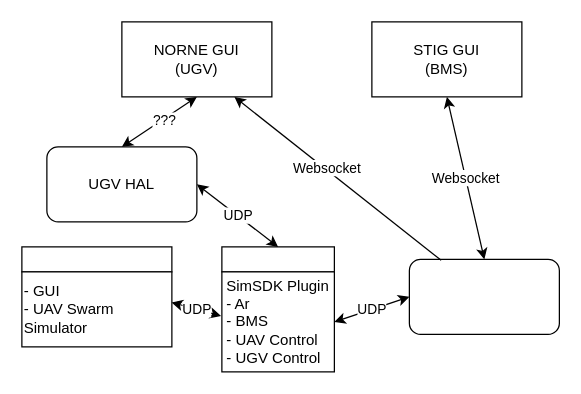
The diagram is 581 pixels wide and 394 high, and some of its shapes have lost their labels. Here are the shapes that lost their labels. From the top down, the box of each, then its label:
(21, 246, 172, 272): MASIM
(221, 246, 334, 272): VBS4
(408, 258, 559, 334): BMS Server
